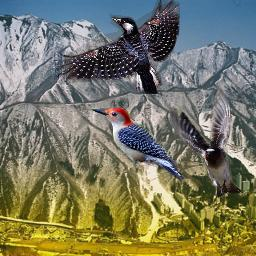Swallow: (169, 87, 244, 198)
Woodpecker: (52, 0, 180, 94), (91, 107, 185, 180)
